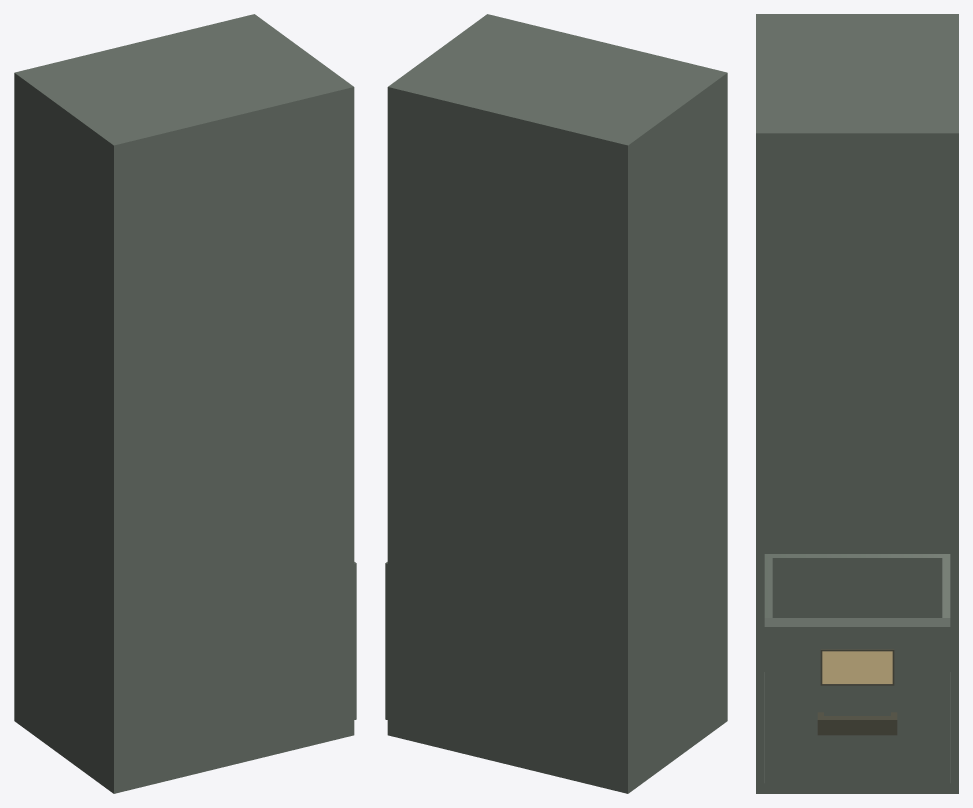
File: SM_Archivador.fbx
3 renders of one model, left to right at view 1: azimuth 30°, elevation 25°; view 2: azimuth 150°, elevation 25°; view 3: azimuth 270°, elevation 25°, orthographic.
Parts seen in each view (by area): view 1: Cube; view 2: Cube; view 3: Cube, Cube.002.
Part boxes in pixels (x1=…): Cube: x1=14, y1=14, x2=354, y2=793; Cube: x1=387, y1=14, x2=727, y2=793; Cube: x1=756, y1=14, x2=958, y2=793; Cube.002: x1=764, y1=554, x2=950, y2=786.
Size of the model in its own units: 64.03 by 151 by 42.09.
